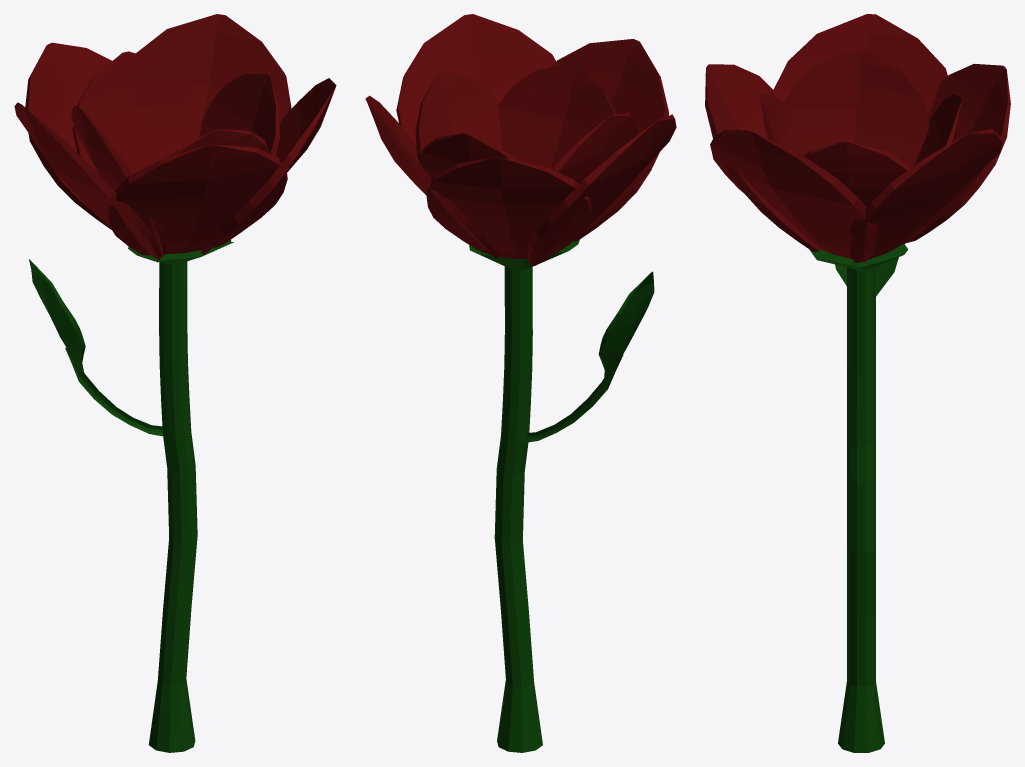
Rendered from Flor 4.obj.
3 views of the same model, side by side, from view 1: azimuth 30°, elevation 25°; view 2: azimuth 150°, elevation 25°; view 3: azimuth 270°, elevation 25° (orthographic).
Visible parts, largest first — view 1: Cylinder.003_Cylinder.004; view 2: Cylinder.003_Cylinder.004; view 3: Cylinder.003_Cylinder.004.
Part boxes in pixels (x1,y1,x2,y2): Cylinder.003_Cylinder.004: (14, 14, 336, 752); Cylinder.003_Cylinder.004: (365, 14, 676, 752); Cylinder.003_Cylinder.004: (705, 14, 1010, 752).
Size of the model in its own units: 2.46 by 5.7 by 2.38.
